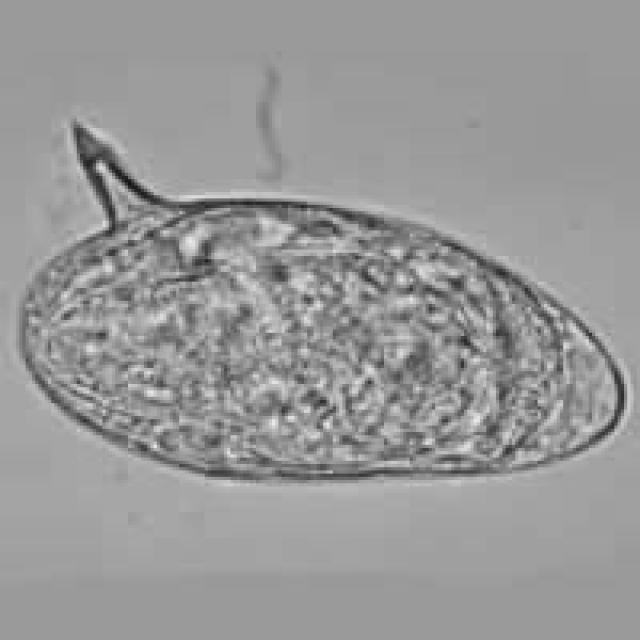Schistosoma: (8, 109, 635, 486)
